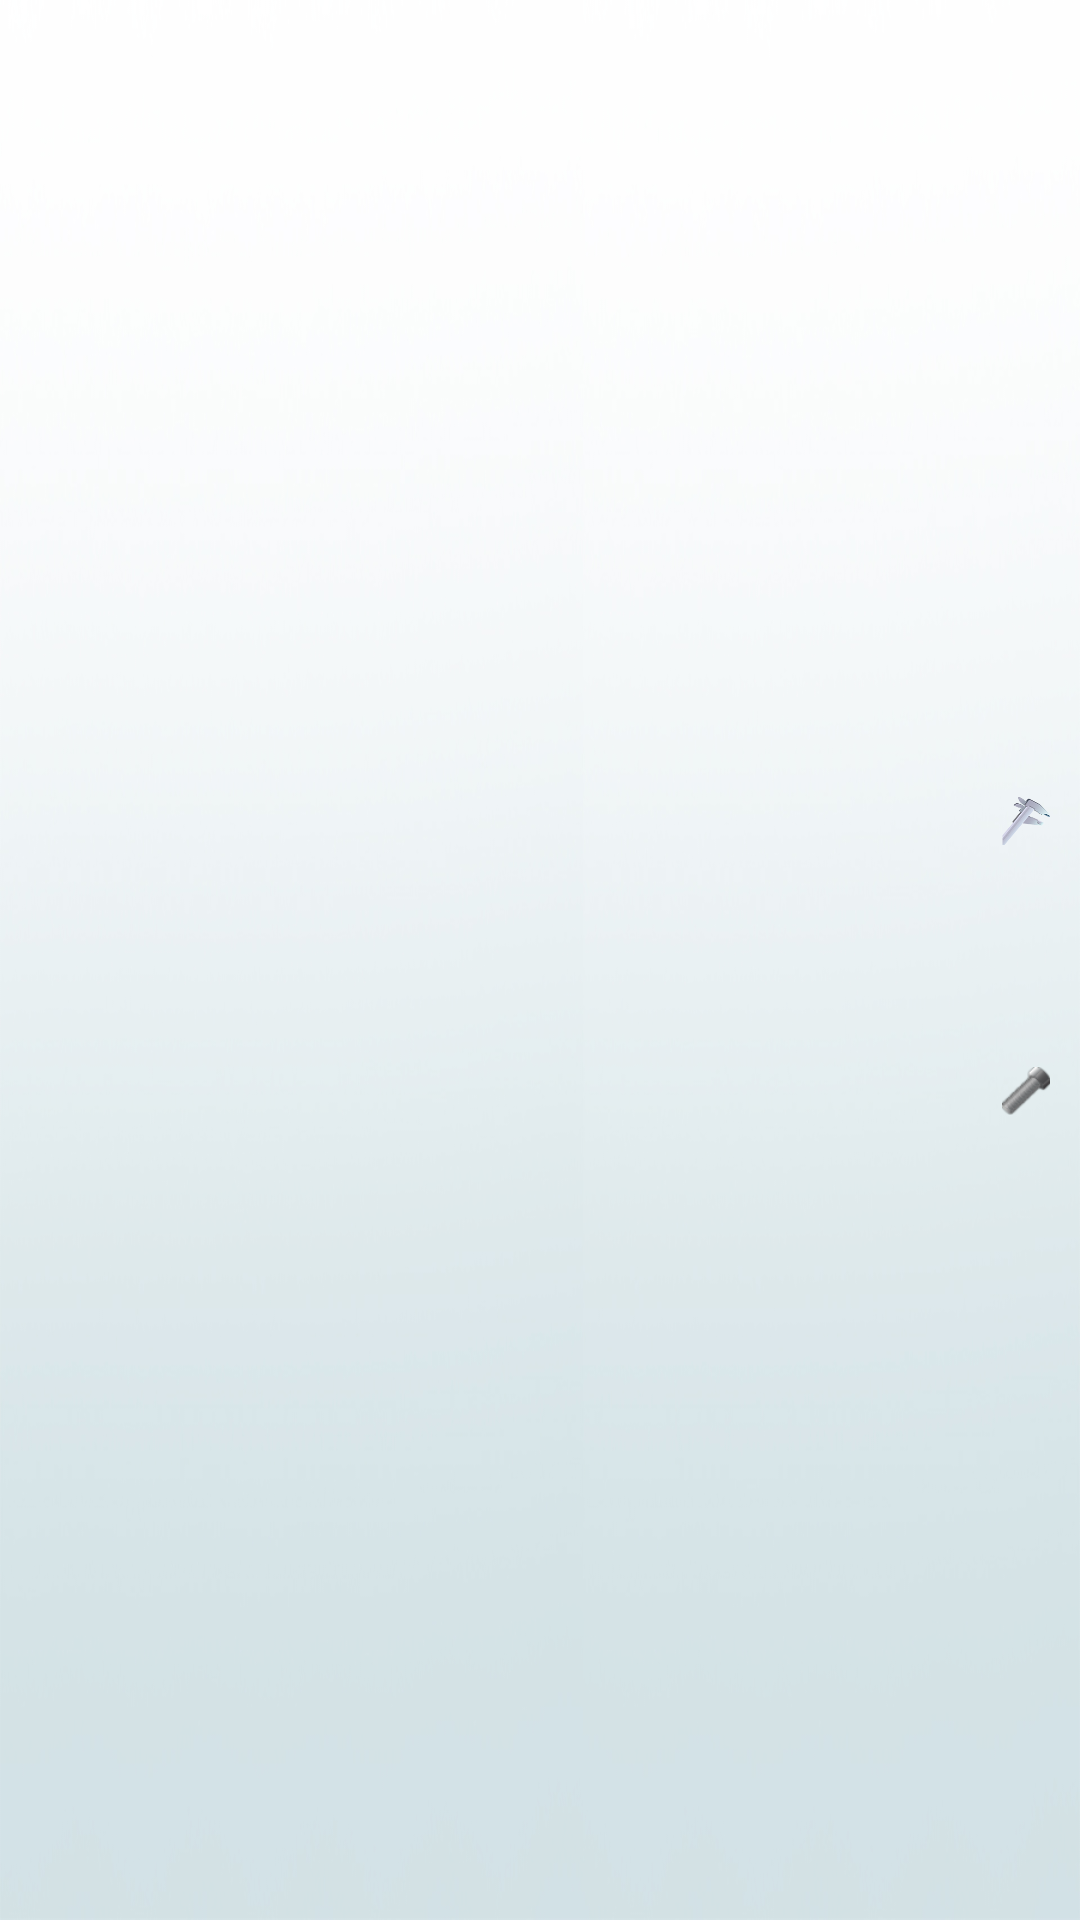

Where to tap for icons on this 1080px×1920px app screen, as (x=x, y=y):
metrics: (x=1026, y=821)
